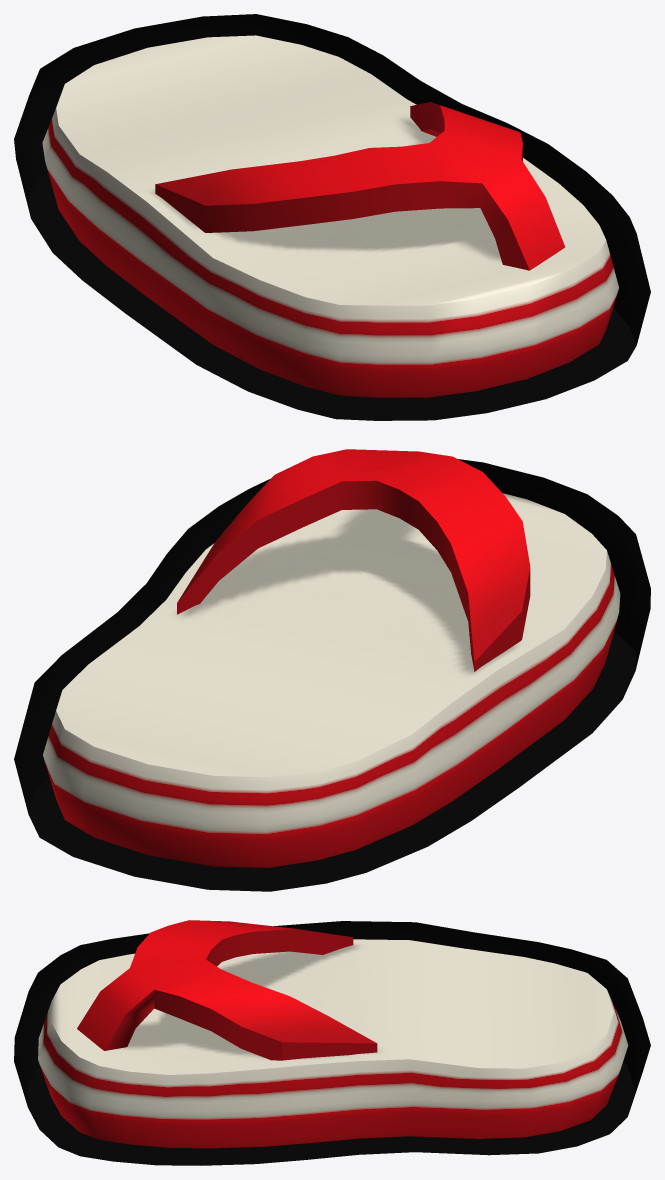
The model's file is castObj_slipper.fbx.
3 views of the same model, one above another, from view 1: azimuth 30°, elevation 25°; view 2: azimuth 150°, elevation 25°; view 3: azimuth 270°, elevation 25° (orthographic). The views are drawn at different scales.
Visible parts, largest first — view 1: castObj_slipper; view 2: castObj_slipper; view 3: castObj_slipper.
Part boxes in pixels (left/top/right/bottom): castObj_slipper: left=14, top=14, right=650, bottom=420; castObj_slipper: left=14, top=449, right=650, bottom=891; castObj_slipper: left=14, top=920, right=650, bottom=1165.
Bounding box in the file's own units: 0.2678 × 0.1161 × 0.4617.
Materials: 2 (1 with a texture image).
